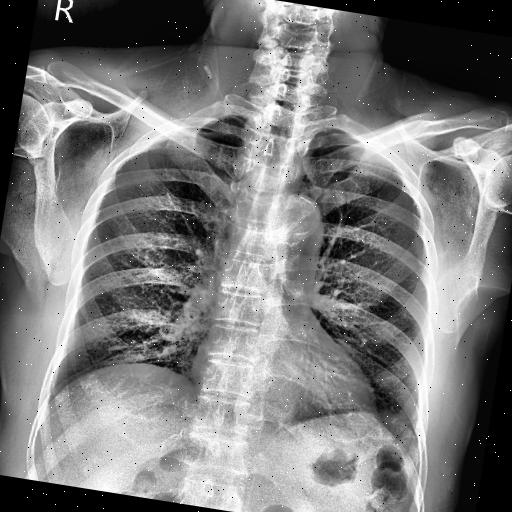0- Aortic enlargement: (256, 188, 324, 254), (270, 190, 327, 257), (268, 192, 327, 250)
